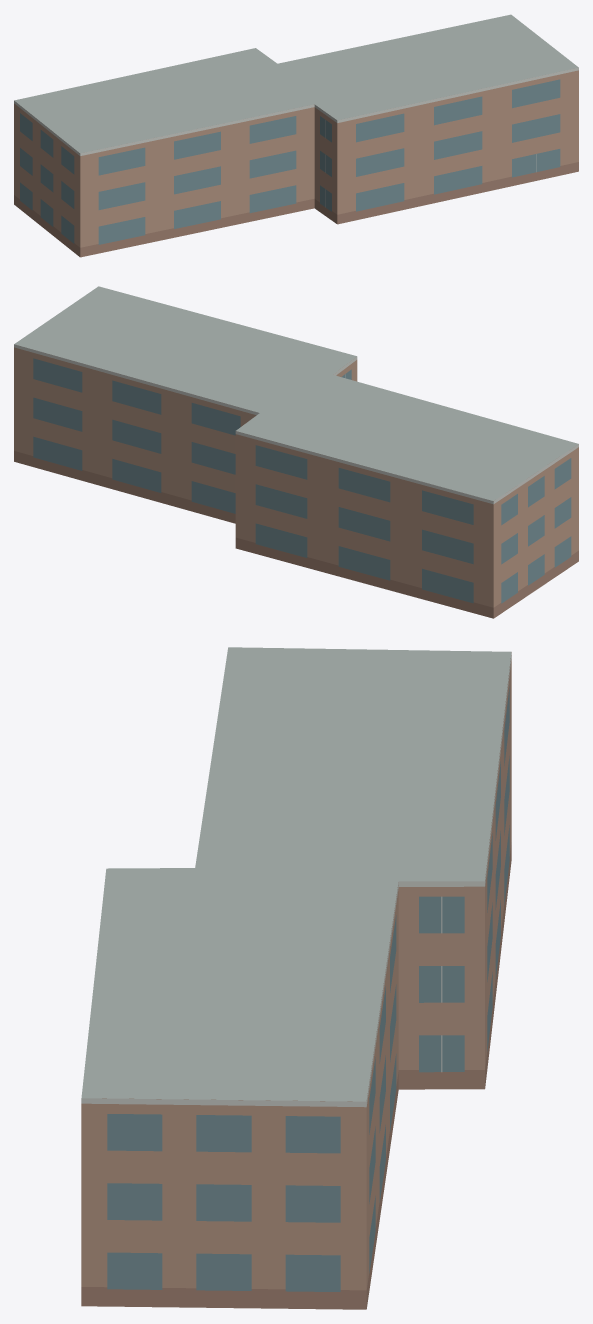
The model's file is survey-upis-32886330.glb.
The picture shows the model from 3 angles, top to bottom: view 1: azimuth 30°, elevation 25°; view 2: azimuth 150°, elevation 25°; view 3: azimuth 270°, elevation 25°; orthographic projection. The views are drawn at different scales.
Visible parts, largest first — view 1: survey-upis-32886330.tmp; view 2: survey-upis-32886330.tmp; view 3: survey-upis-32886330.tmp.
Boxes of the visible parts, box(x1,y1,x2,y2) form: survey-upis-32886330.tmp: box(14, 14, 578, 257); survey-upis-32886330.tmp: box(14, 286, 578, 618); survey-upis-32886330.tmp: box(81, 647, 511, 1309).
Bounding box in the file's own units: 42.87 × 9.15 × 17.15.
